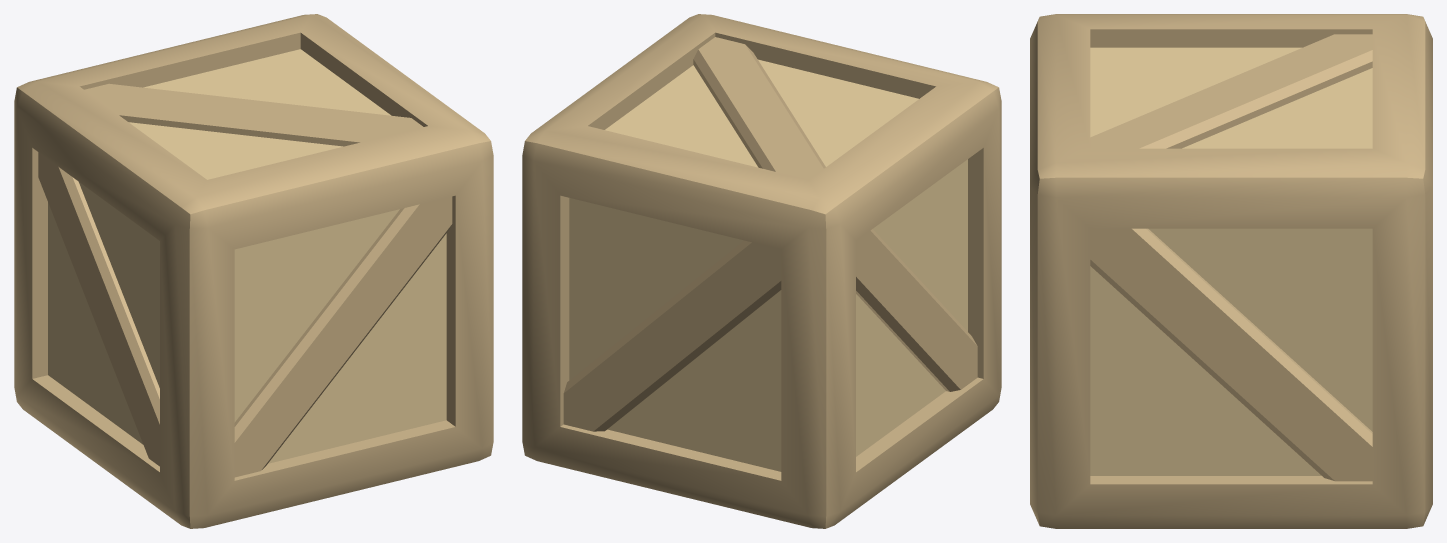
The model's file is Crate.fbx.
3 renders of one model, left to right at view 1: azimuth 30°, elevation 25°; view 2: azimuth 150°, elevation 25°; view 3: azimuth 270°, elevation 25°, orthographic. The views are drawn at different scales.
Visible parts, largest first — view 1: Crate.001; view 2: Crate.001; view 3: Crate.001.
Boxes of the visible parts, left/top/right/bottom form: Crate.001: left=14, top=14, right=493, bottom=528; Crate.001: left=522, top=14, right=1001, bottom=528; Crate.001: left=1030, top=14, right=1432, bottom=528.
Bounding box in the file's own units: 0.7898 × 0.7898 × 0.7898.
